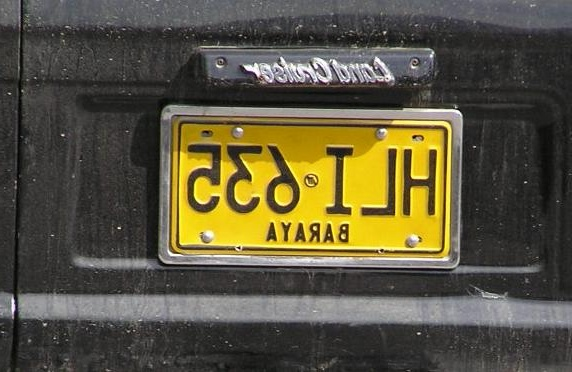placas: (162, 113, 456, 265)
